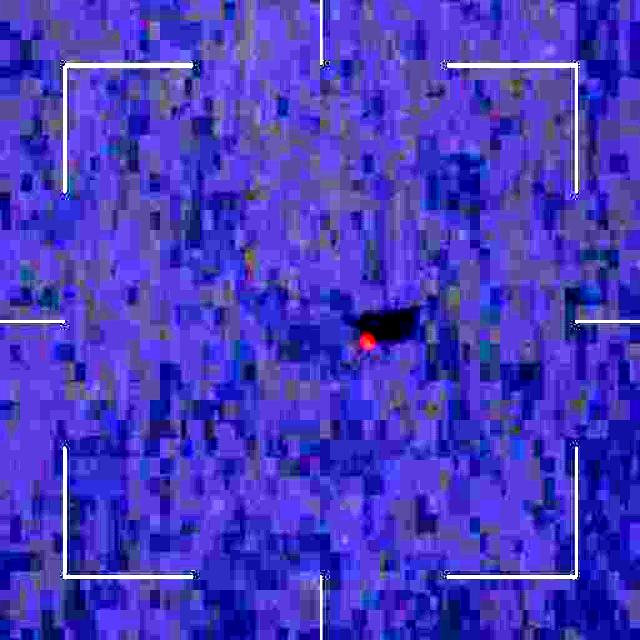bird: (346, 321, 382, 361)
